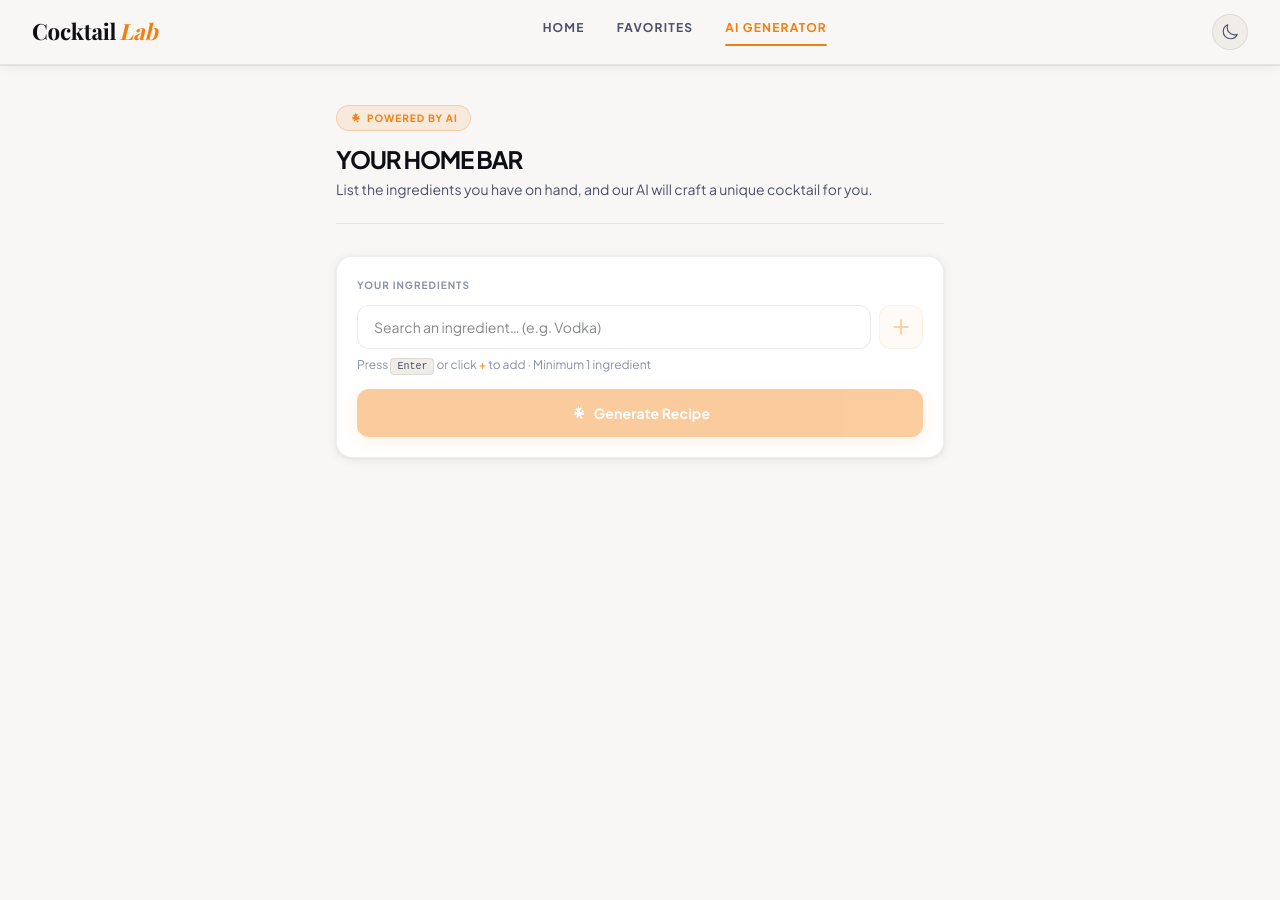
Test: GenerateAI view › shows an error alert when the API returns 500
Type "Rum" into the field with placeholder "Search an ingredient… (e.g. Vodka)" at (614, 327), box [357,305,871,349]
Then press Enter
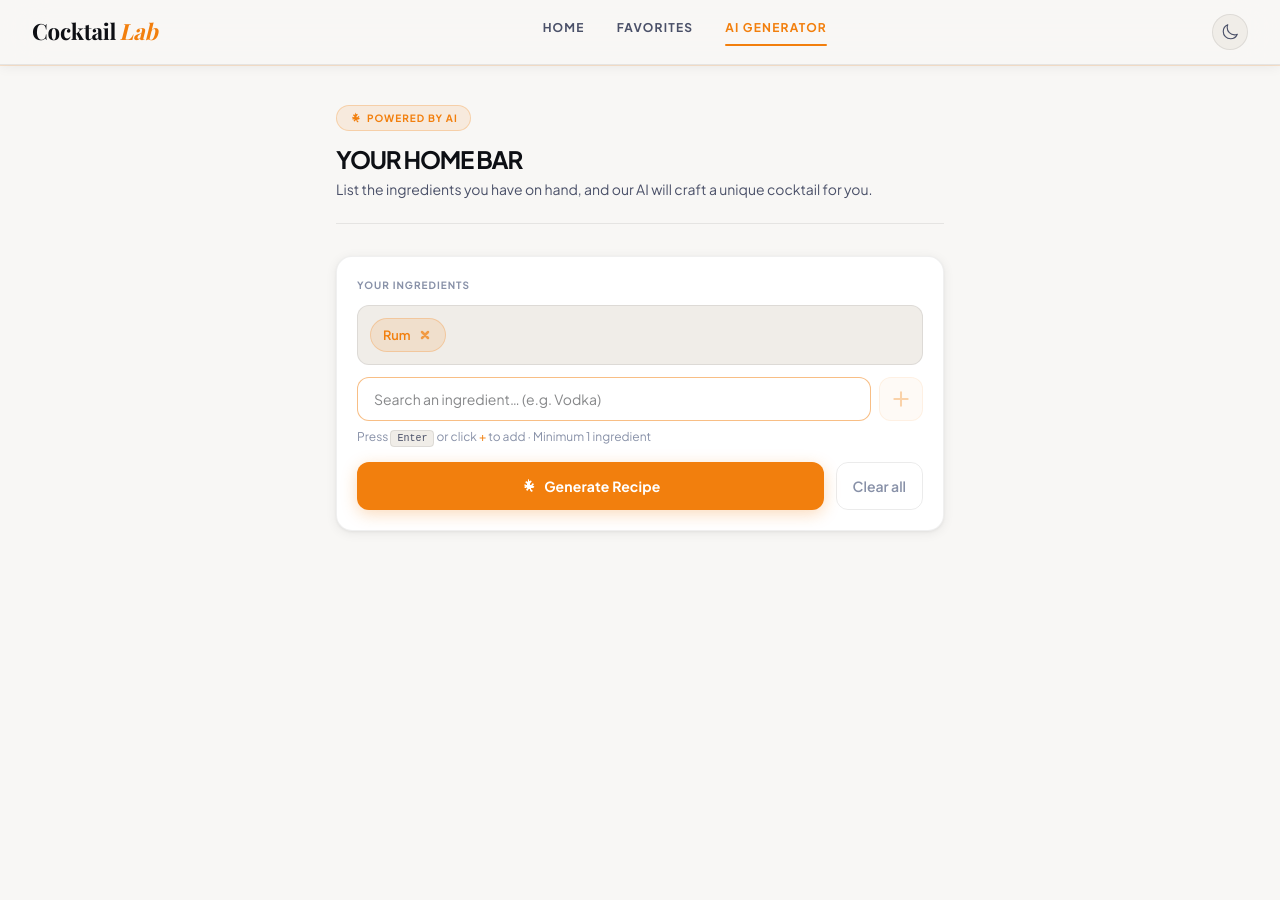
Click the button "Generate Recipe" at (590, 486), box [357,462,824,510]
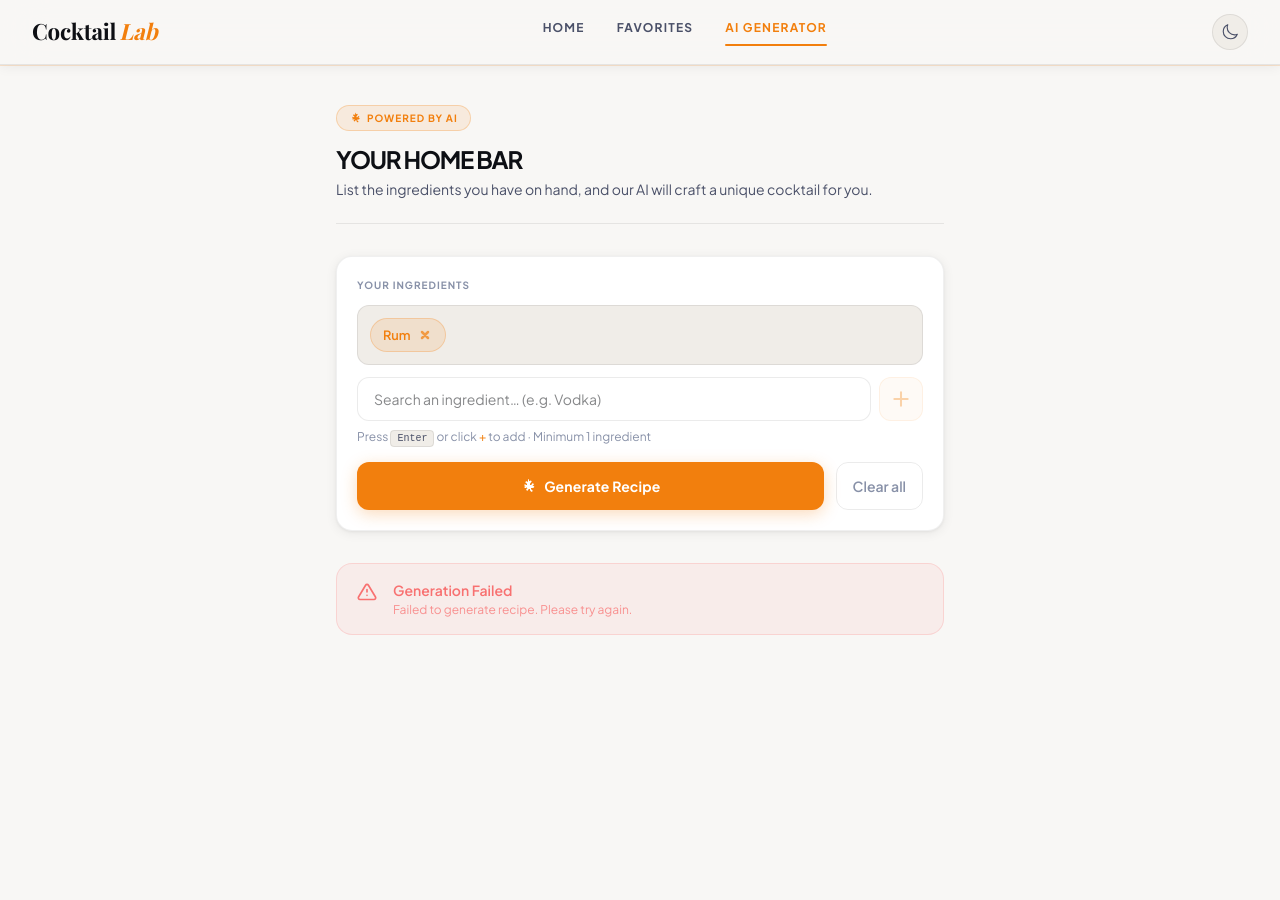
Expected: the message "Generation Failed Failed to generate recipe. Please try again." is shown, [336,563,944,635]
Expected: the text "Generation Failed" is shown, [393,581,512,599]
